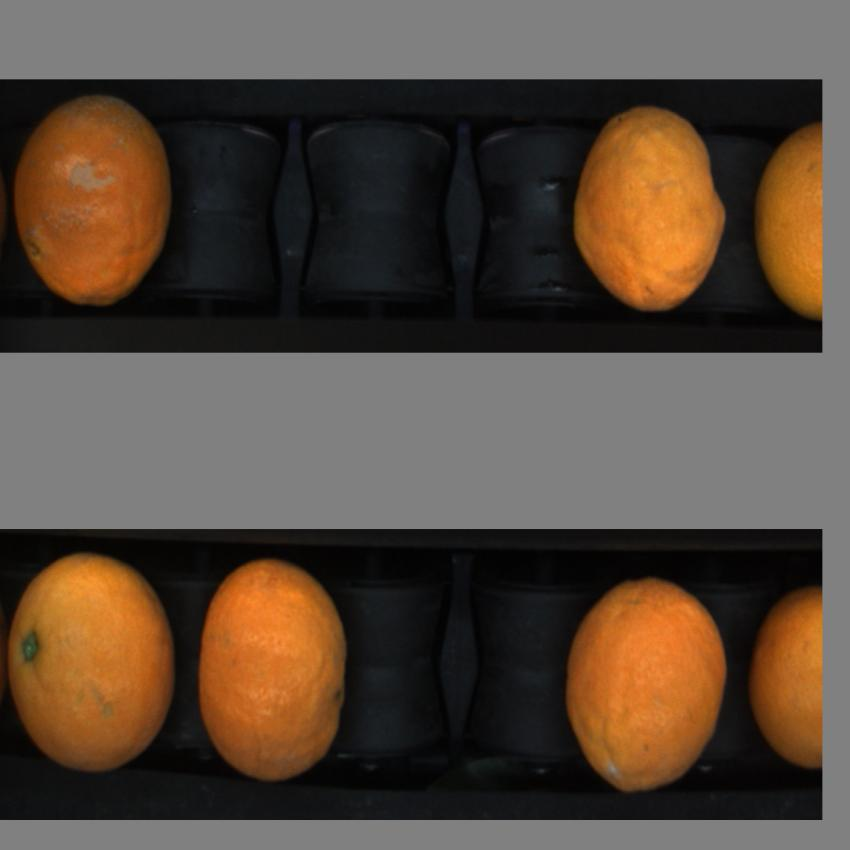Buen estado: (7, 551, 175, 777), (566, 571, 731, 796), (198, 555, 354, 784), (570, 105, 724, 308), (750, 114, 823, 323), (744, 580, 824, 768)
Mal estado: (9, 93, 188, 304)
